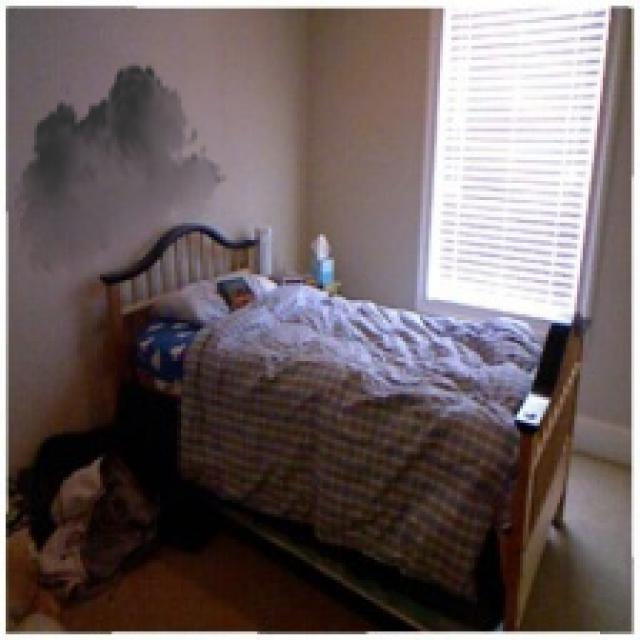smoke: (14, 54, 229, 289)
